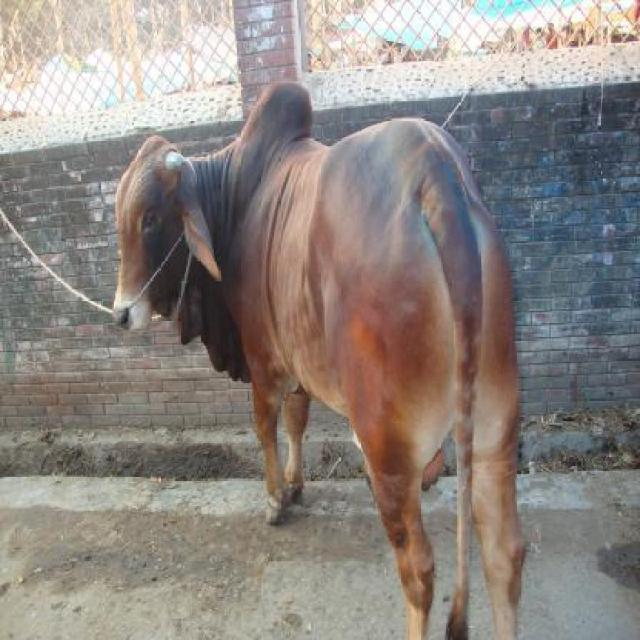Cow: (105, 70, 528, 638)
